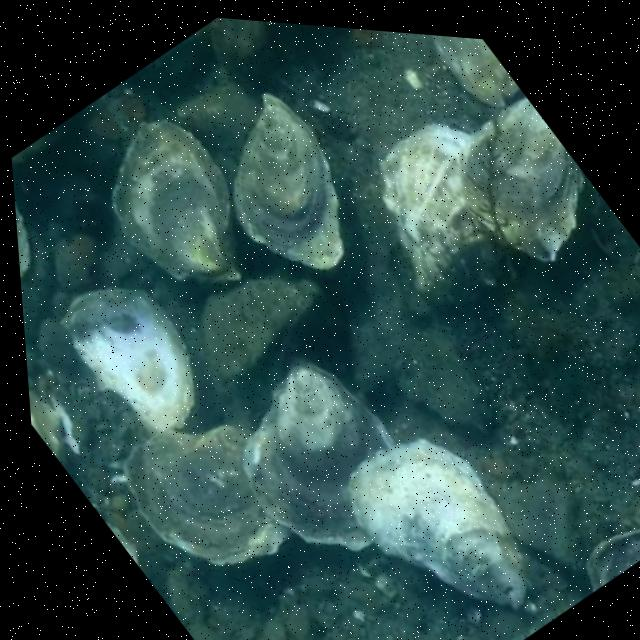Oyster-Closed: (198, 276, 315, 381)
Oyster-Indeterminate: (348, 438, 529, 607), (244, 357, 395, 547), (124, 424, 293, 565), (382, 124, 510, 309), (458, 94, 587, 262), (114, 118, 239, 284), (237, 93, 341, 268), (434, 35, 518, 104)
